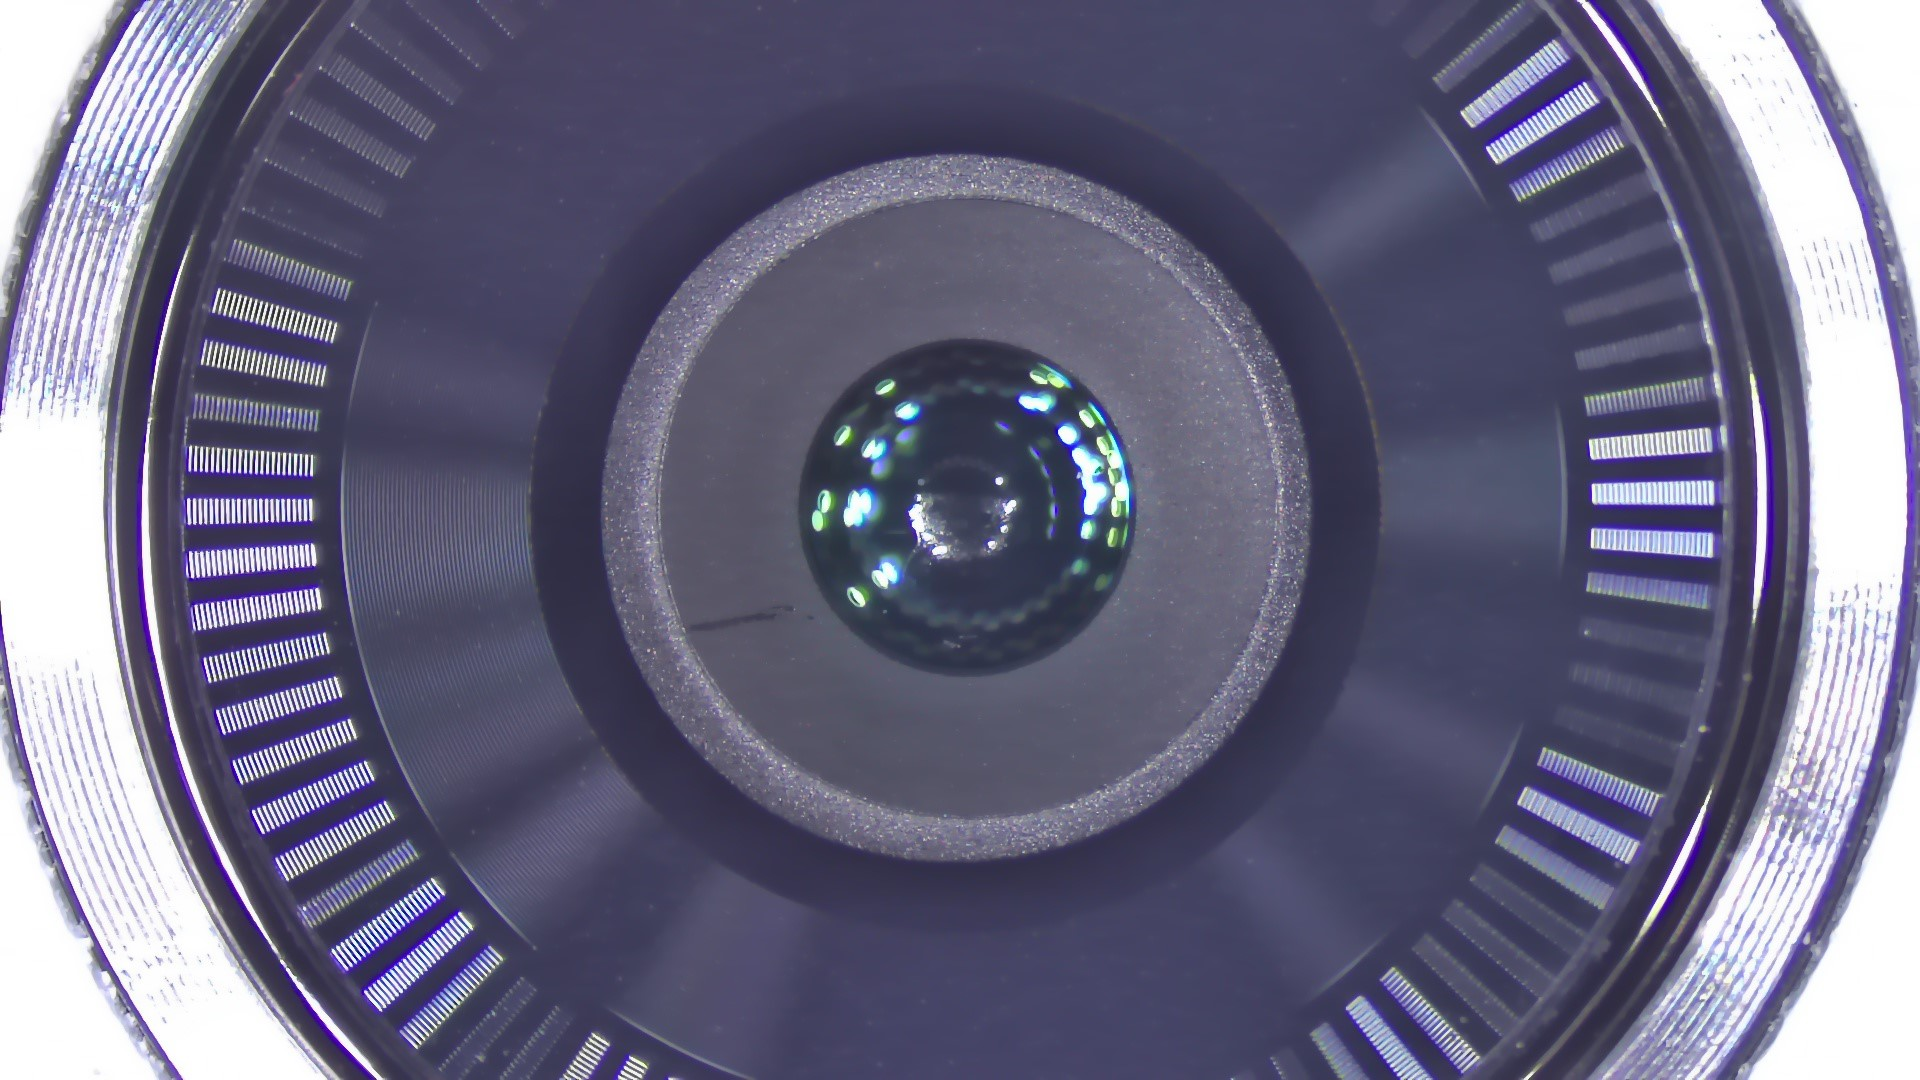crack: (670, 589, 833, 651)
